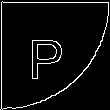P_N: (35, 29, 75, 81)
